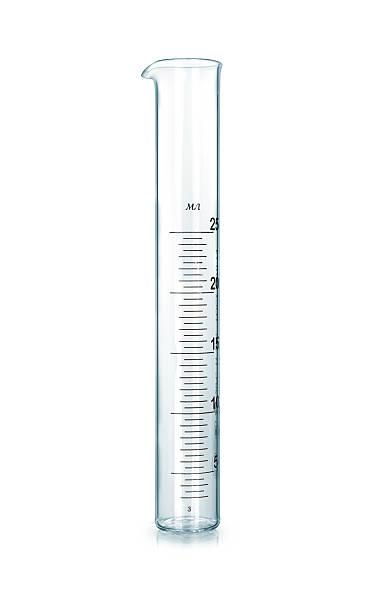Test tube: (130, 45, 242, 537)
